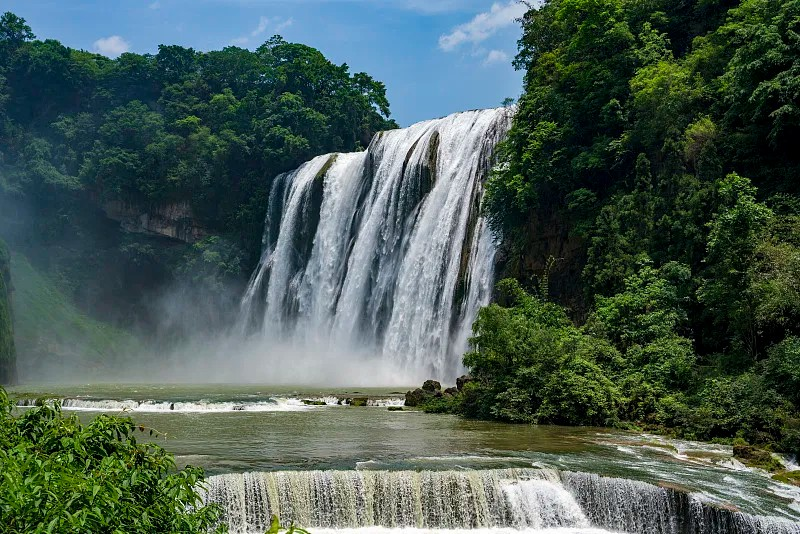Huangguoshu: (243, 104, 495, 388)
